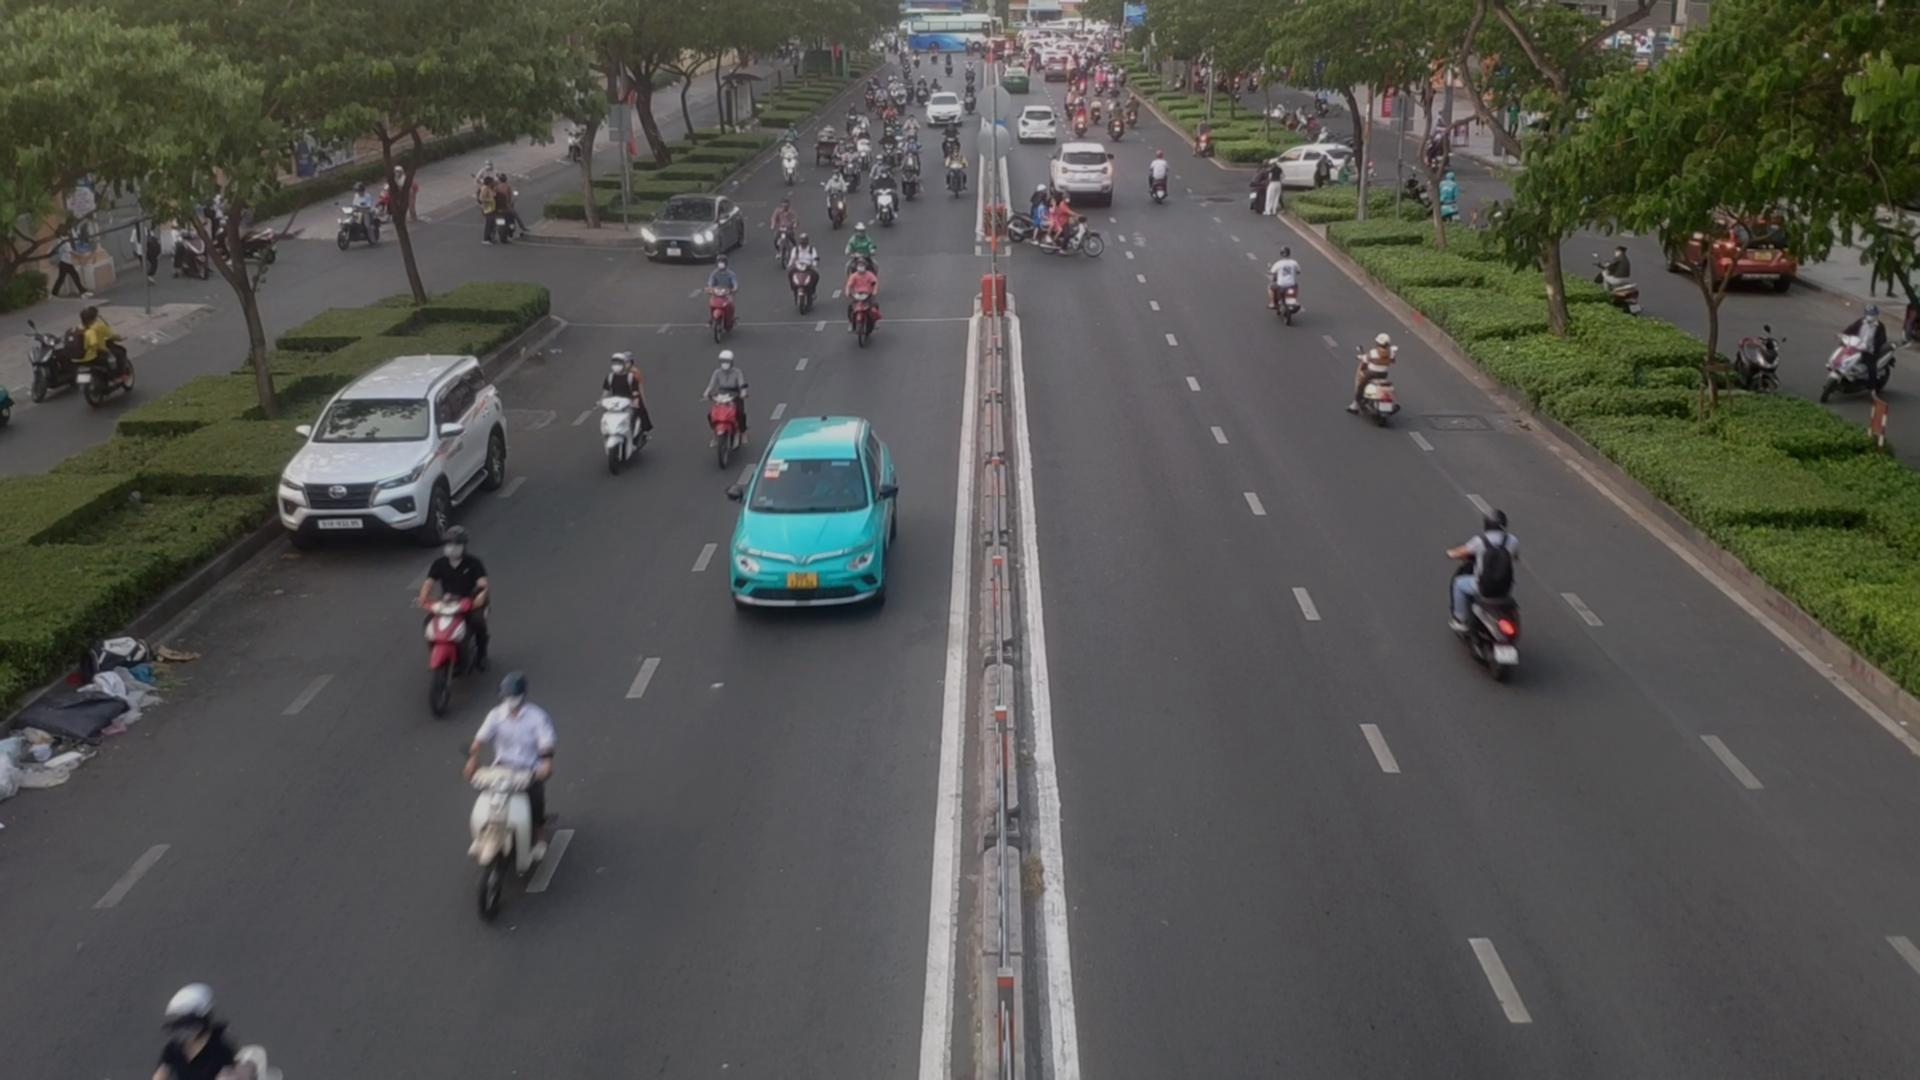car: (273, 351, 517, 541), (735, 415, 905, 609), (636, 195, 746, 262), (1267, 142, 1367, 195), (1054, 142, 1120, 198)
motorbike: (462, 678, 549, 891), (411, 526, 501, 717), (1451, 493, 1530, 673), (1342, 318, 1399, 425), (603, 359, 653, 473), (1029, 193, 1100, 262), (852, 249, 887, 347), (705, 348, 733, 455), (843, 220, 876, 303), (794, 237, 822, 328), (1266, 245, 1300, 316), (712, 262, 741, 344), (770, 203, 796, 260), (1151, 144, 1172, 204), (876, 169, 894, 229), (824, 170, 845, 218), (901, 152, 919, 203), (781, 142, 799, 189), (841, 149, 858, 194), (855, 123, 872, 164), (949, 152, 964, 198), (878, 129, 895, 167), (785, 125, 803, 160), (942, 127, 963, 156)
